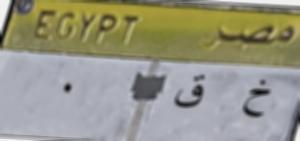0: (52, 77, 88, 100)
khaa: (238, 76, 275, 122)
qaaf: (173, 72, 209, 114)
